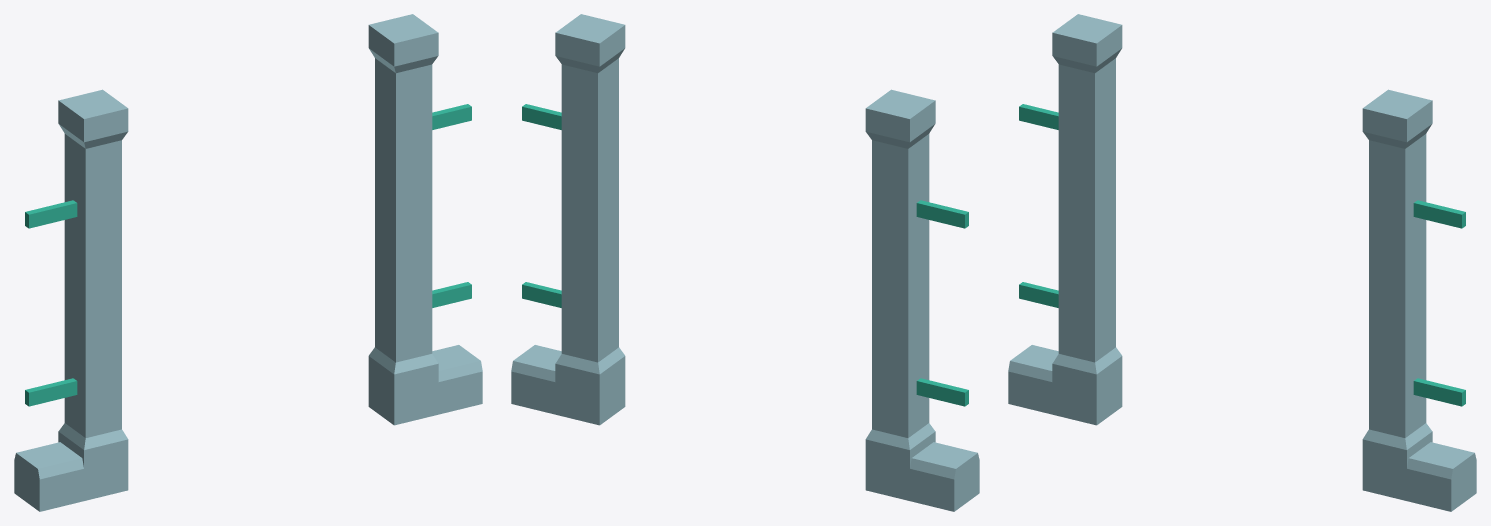
Rendered from ironFenceBorderGate.obj.
3 views of the same model, side by side, from view 1: azimuth 30°, elevation 25°; view 2: azimuth 150°, elevation 25°; view 3: azimuth 330°, elevation 25° (orthographic).
Visible parts, largest first — view 1: ironFenceBorderGate; view 2: ironFenceBorderGate; view 3: ironFenceBorderGate.
Boxes of the visible parts, left/top/right/bottom form: ironFenceBorderGate: left=14, top=14, right=482, bottom=511; ironFenceBorderGate: left=511, top=14, right=979, bottom=511; ironFenceBorderGate: left=1008, top=14, right=1476, bottom=511.
Bounding box in the file's own units: 1 × 0.8239 × 0.1.
